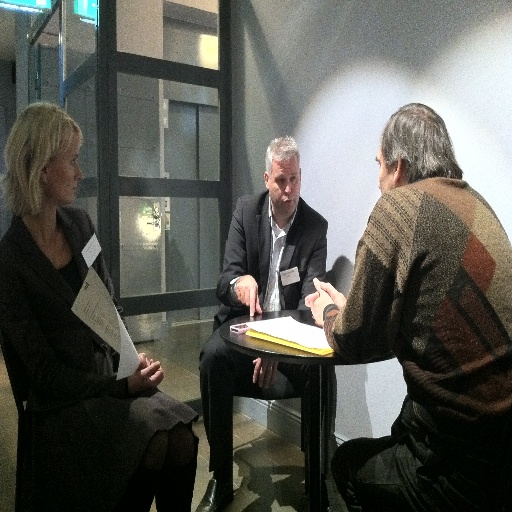hand: (303, 273, 333, 327), (304, 280, 348, 309), (128, 358, 164, 393), (235, 274, 260, 314), (252, 358, 278, 392), (136, 349, 153, 370)
